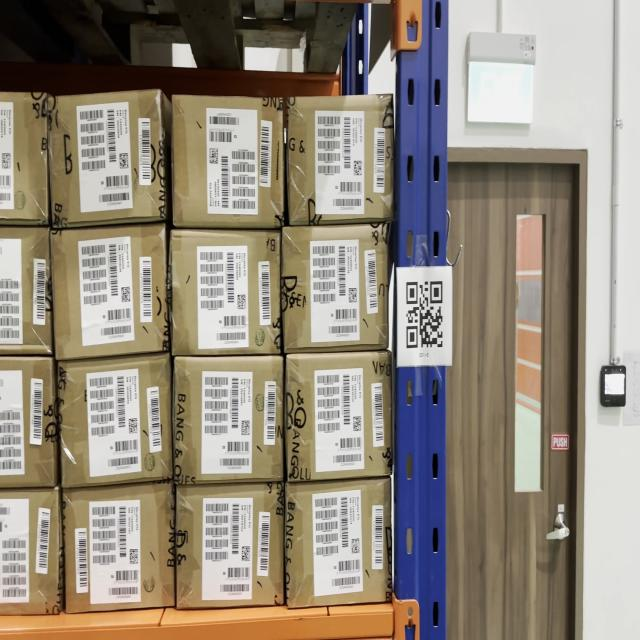box: (175, 97, 282, 227), (52, 234, 165, 354), (51, 100, 162, 218), (174, 234, 280, 356), (175, 364, 284, 480), (64, 490, 171, 607), (289, 355, 390, 478), (60, 366, 168, 480), (178, 491, 282, 609), (285, 226, 384, 349), (293, 103, 395, 221), (287, 485, 391, 598)
